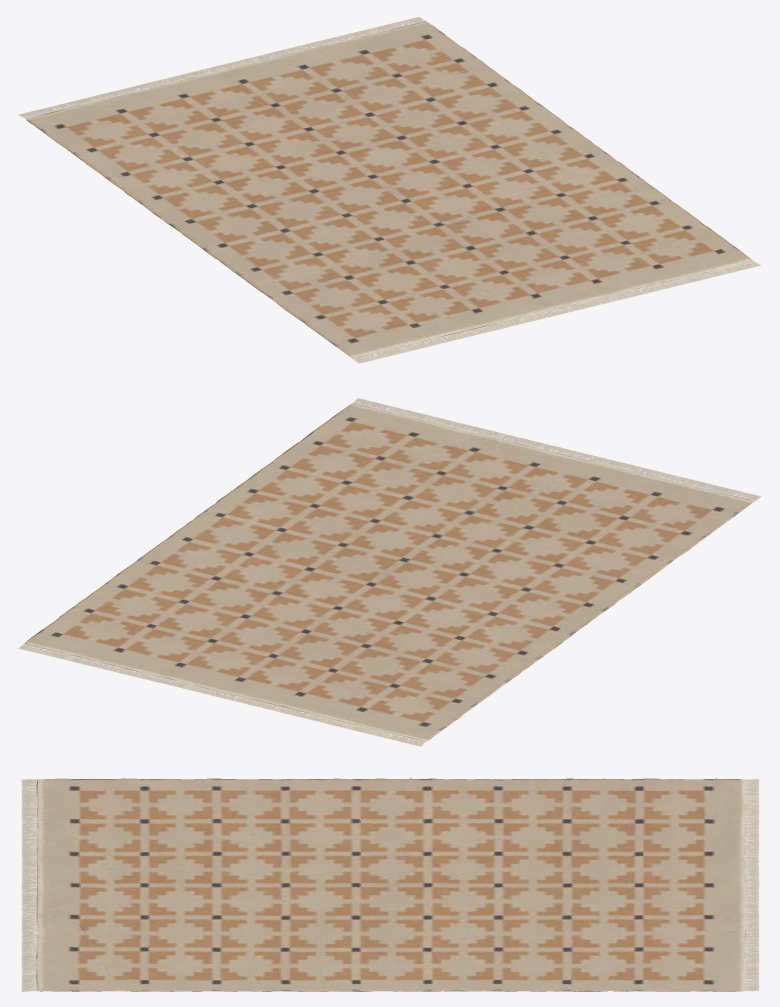
The picture shows the model from 3 angles, top to bottom: view 1: azimuth 30°, elevation 25°; view 2: azimuth 150°, elevation 25°; view 3: azimuth 270°, elevation 25°; orthographic projection. The views are drawn at different scales.
Visible parts, largest first — view 1: ASY_ART_50555281_S01_NV01; view 2: ASY_ART_50555281_S01_NV01; view 3: ASY_ART_50555281_S01_NV01.
Part boxes in pixels (x1=…): ASY_ART_50555281_S01_NV01: x1=18, y1=17, x2=760, y2=363; ASY_ART_50555281_S01_NV01: x1=18, y1=398, x2=760, y2=746; ASY_ART_50555281_S01_NV01: x1=21, y1=778, x2=759, y2=991.
Size of the model in its own units: 1.71 by 0.00586 by 2.54.
Materials: 2 (2 with a texture image).
